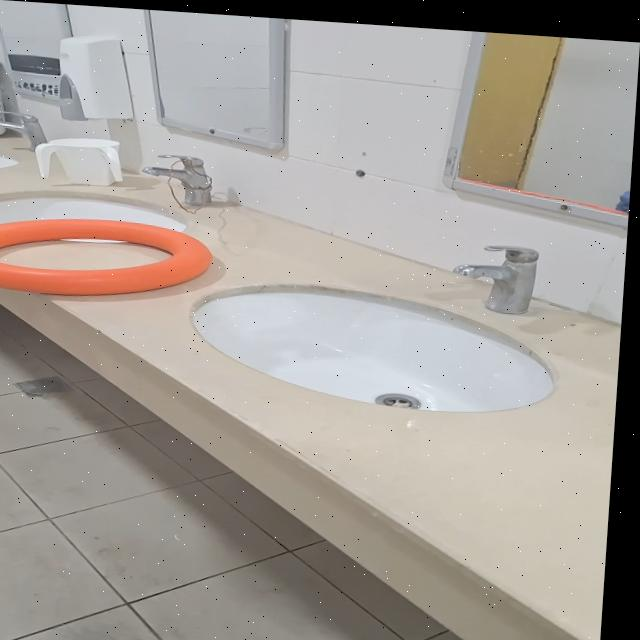note: (0, 210, 220, 303)
